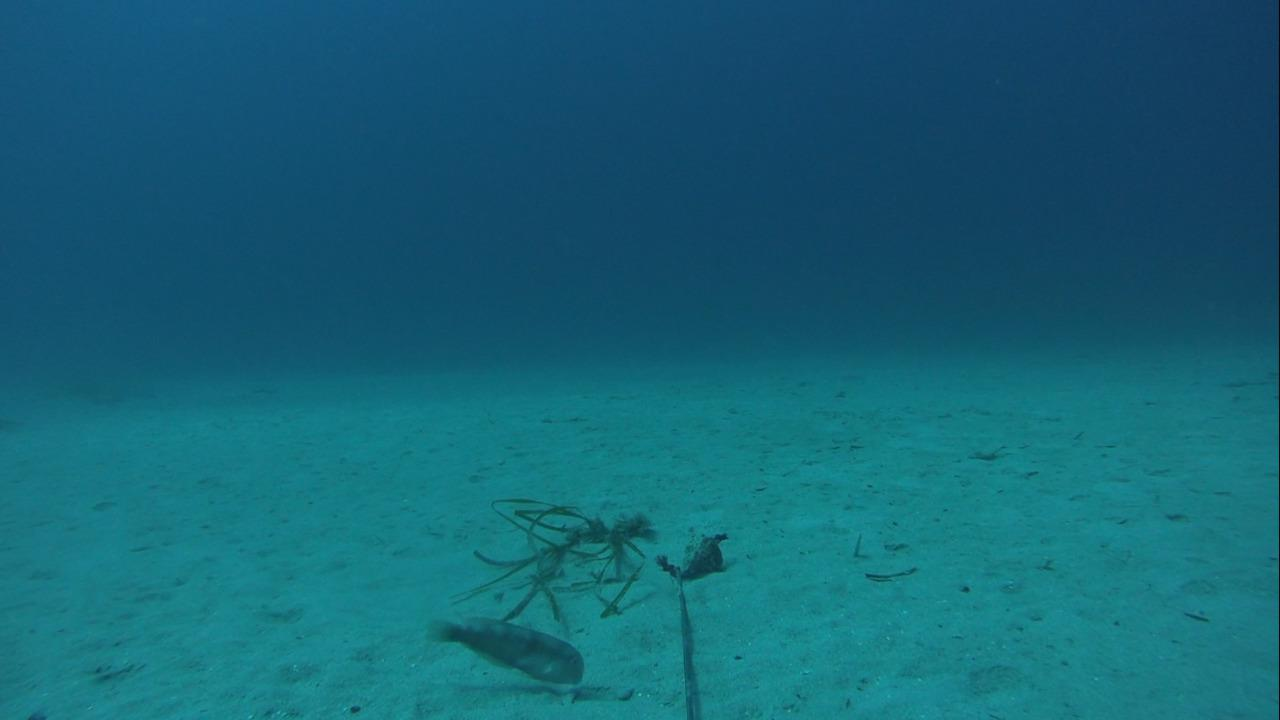raor: (417, 608, 586, 688)
